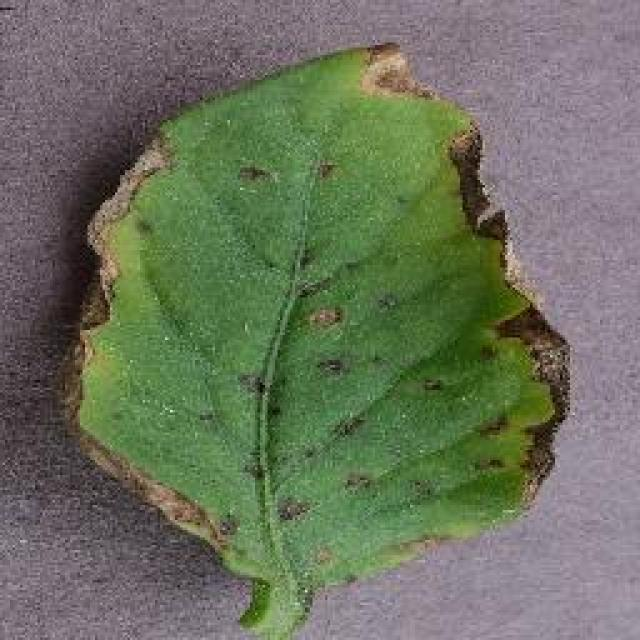bacterial spot: (48, 38, 572, 635)
